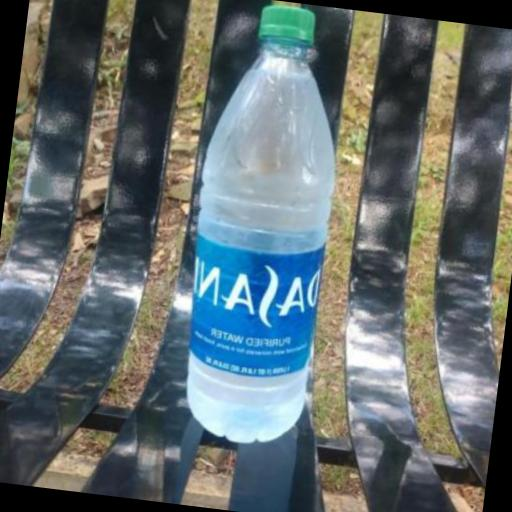Coca: (155, 0, 369, 458)
